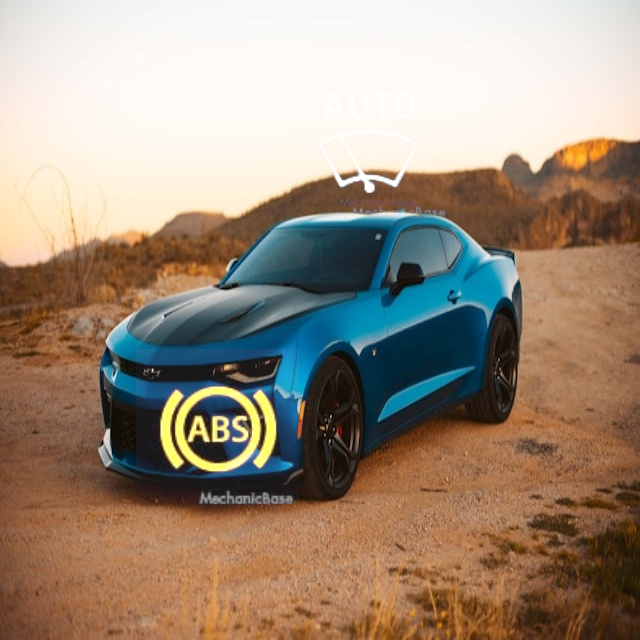symbol: (287, 61, 452, 226), (136, 349, 299, 512), (287, 79, 421, 213)
